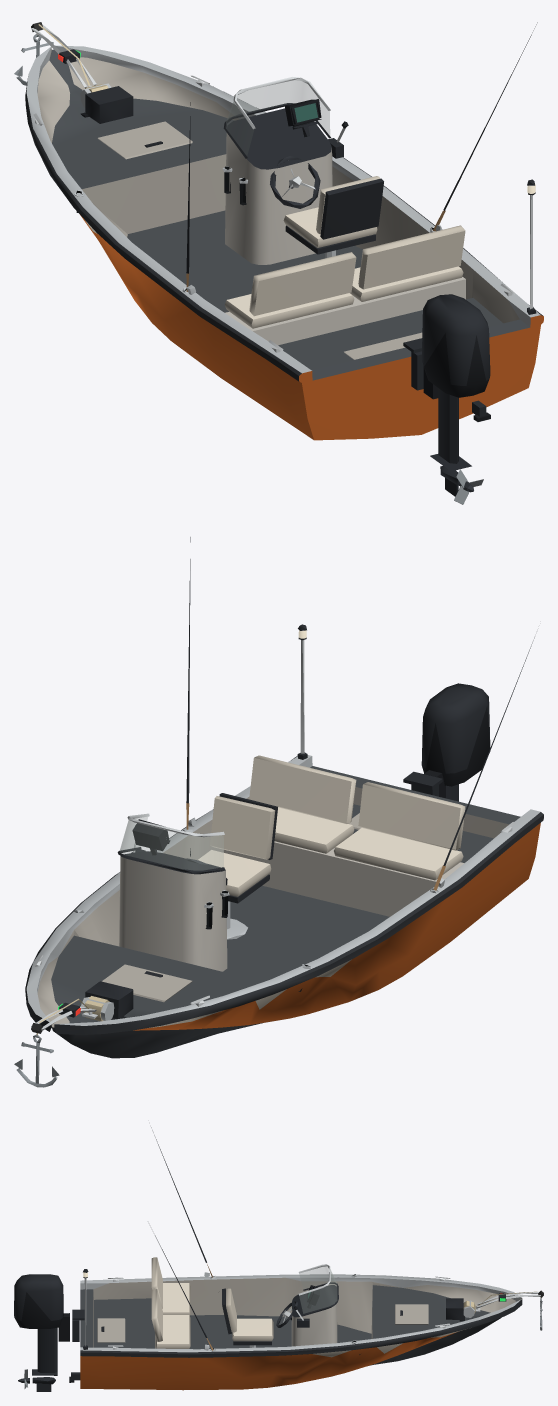
File: volzhanka_lod1.glb
3 views of the same model, one above another, from view 1: azimuth 30°, elevation 25°; view 2: azimuth 150°, elevation 25°; view 3: azimuth 270°, elevation 25° (orthographic). The views are drawn at different scales.
Parts seen in each view (by area): view 1: volzhanka_body, motor, rods, steering_wheel; view 2: volzhanka_body, motor, rods; view 3: volzhanka_body, motor, rods.
Boxes of the visible parts, x1=… form: volzhanka_body: x1=25, y1=22, x2=543, y2=440; motor: x1=421, y1=294, x2=490, y2=496; rods: x1=186, y1=22, x2=537, y2=294; steering_wheel: x1=270, y1=156, x2=320, y2=208; volzhanka_body: x1=25, y1=624, x2=543, y2=1058; motor: x1=421, y1=683, x2=490, y2=801; rods: x1=186, y1=537, x2=534, y2=890; volzhanka_body: x1=69, y1=1257, x2=543, y2=1390; motor: x1=14, y1=1274, x2=69, y2=1391; rods: x1=151, y1=1127, x2=213, y2=1350.
Bounding box in the file's own units: 2.59 × 2.63 × 5.64.
